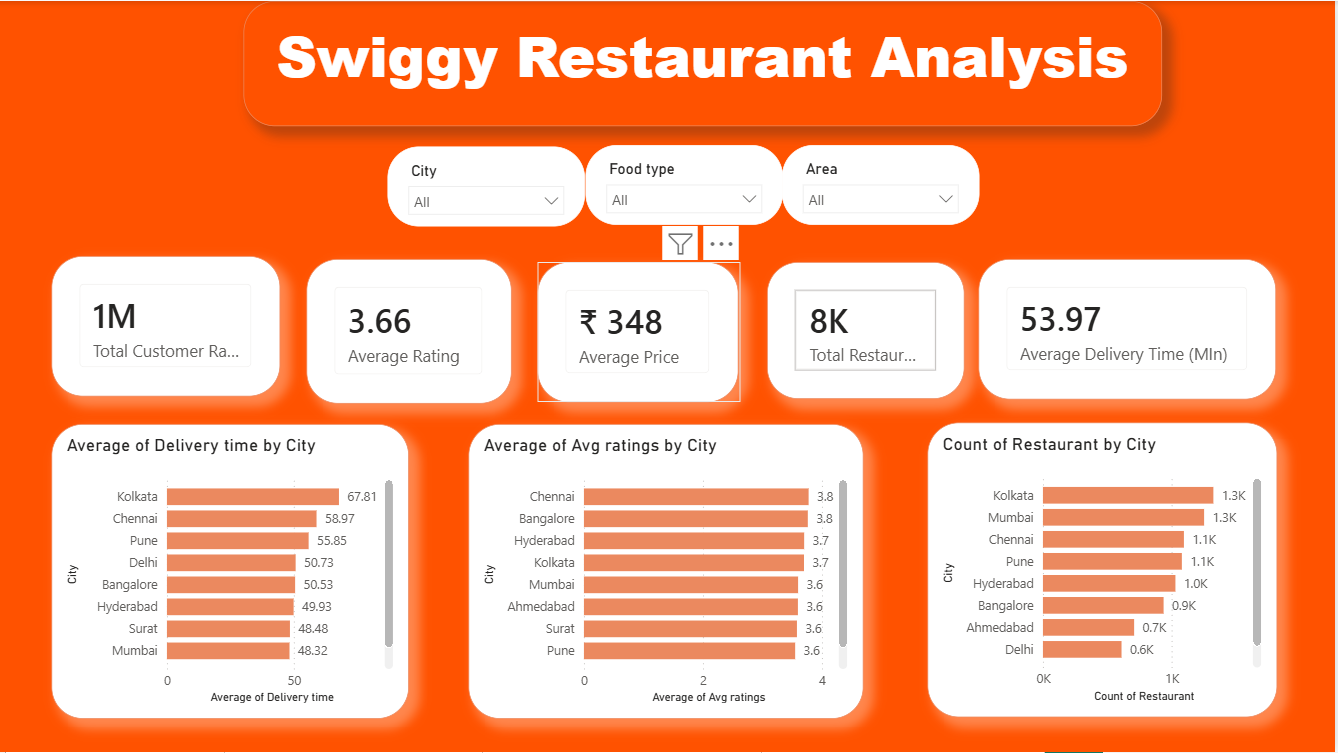

The page's visual inventory and layout, read from the dashboard file:
{"tool":"powerbi","page":{"name":"Executive Overview","canvas":[1280,720],"ordinal":0},"visuals":[{"type":"cardVisual","fields":{"Data":["swiggy_data.Total Restaurants"]},"box":[735.9,249.6,189.2,131.1],"z":0},{"type":"cardVisual","fields":{"Data":["swiggy_data.Average Rating"]},"box":[295.4,247,196.7,138.6],"z":1000},{"type":"cardVisual","fields":{"Data":["swiggy_data.Average Price"]},"box":[516.9,249.6,192.9,134.9],"z":2000},{"type":"cardVisual","fields":{"Data":["swiggy_data.Average Delivery Time"]},"box":[939.6,247,285.2,135],"z":3000},{"type":"cardVisual","fields":{"Data":["swiggy_data.Total Customer Ratings"]},"box":[50.9,244.5,219.2,134.9],"z":4000},{"type":"textbox","box":[234.1,0,880.4,119.9],"z":5000},{"type":"clusteredBarChart","fields":{"Category":["swiggy_data.City"],"Y":["Count(swiggy_data.Restaurant)"]},"box":[889.8,404.6,335.3,282.9],"z":6000},{"type":"clusteredBarChart","fields":{"Category":["swiggy_data.City"],"Y":["Avg(swiggy_data.Delivery time)"]},"box":[50.9,404.9,342.8,282.9],"z":7000},{"type":"clusteredBarChart","fields":{"Category":["swiggy_data.City"],"Y":["Avg(swiggy_data.Avg ratings)"]},"box":[450.7,404.9,378.4,282.9],"z":8000},{"type":"slicer","fields":{"Values":["swiggy_data.City"]},"box":[372.5,139.1,189.2,76.8],"z":13000},{"type":"slicer","fields":{"Values":["swiggy_data.Food type"]},"box":[562,138.6,189.2,76.8],"z":14000},{"type":"slicer","fields":{"Values":["swiggy_data.Area"]},"box":[751.1,138.6,189.2,76.8],"z":15000}]}

Visuals, with their boxes in screenshot pixels (x1, y1, x2, y2), scaled from the page's 1280x720 canvas onto the 1338x753 screenshot:
cardVisual - swiggy_data.Total Restaurants: (left=769, top=261, right=967, bottom=398)
cardVisual - swiggy_data.Average Rating: (left=309, top=258, right=514, bottom=403)
cardVisual - swiggy_data.Average Price: (left=540, top=261, right=742, bottom=402)
cardVisual - swiggy_data.Average Delivery Time: (left=982, top=258, right=1280, bottom=400)
cardVisual - swiggy_data.Total Customer Ratings: (left=53, top=256, right=282, bottom=397)
textbox: (left=245, top=0, right=1165, bottom=125)
clusteredBarChart - swiggy_data.City x Count(swiggy_data.Restaurant): (left=930, top=423, right=1281, bottom=719)
clusteredBarChart - swiggy_data.City x Avg(swiggy_data.Delivery time): (left=53, top=423, right=412, bottom=719)
clusteredBarChart - swiggy_data.City x Avg(swiggy_data.Avg ratings): (left=471, top=423, right=867, bottom=719)
slicer - swiggy_data.City: (left=389, top=145, right=587, bottom=226)
slicer - swiggy_data.Food type: (left=587, top=145, right=785, bottom=225)
slicer - swiggy_data.Area: (left=785, top=145, right=983, bottom=225)
